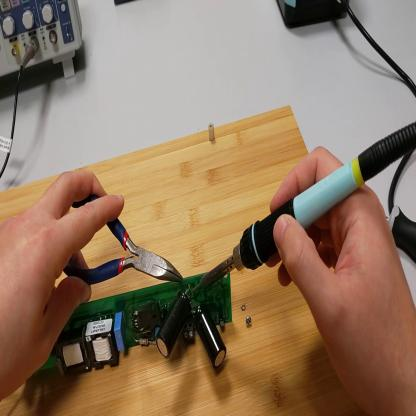hand: (269, 149, 416, 416), (3, 168, 129, 390)
high voltage board: (29, 265, 235, 376)
oscilloscope: (1, 1, 86, 95)
pliers: (57, 196, 184, 283)
screwdriver-: (385, 204, 415, 268)
welder probe tip: (192, 124, 415, 296)
welder station: (276, 1, 353, 33)
working area: (1, 104, 369, 416)
